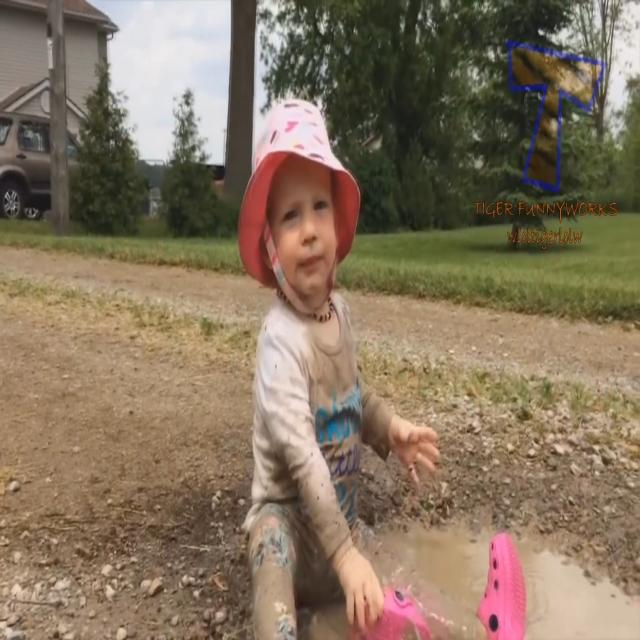safe: (236, 90, 374, 580)
